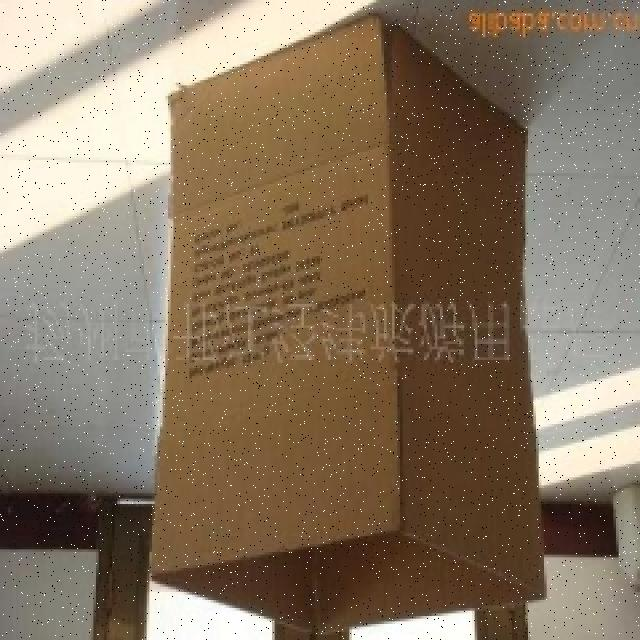box: (132, 31, 561, 630)
